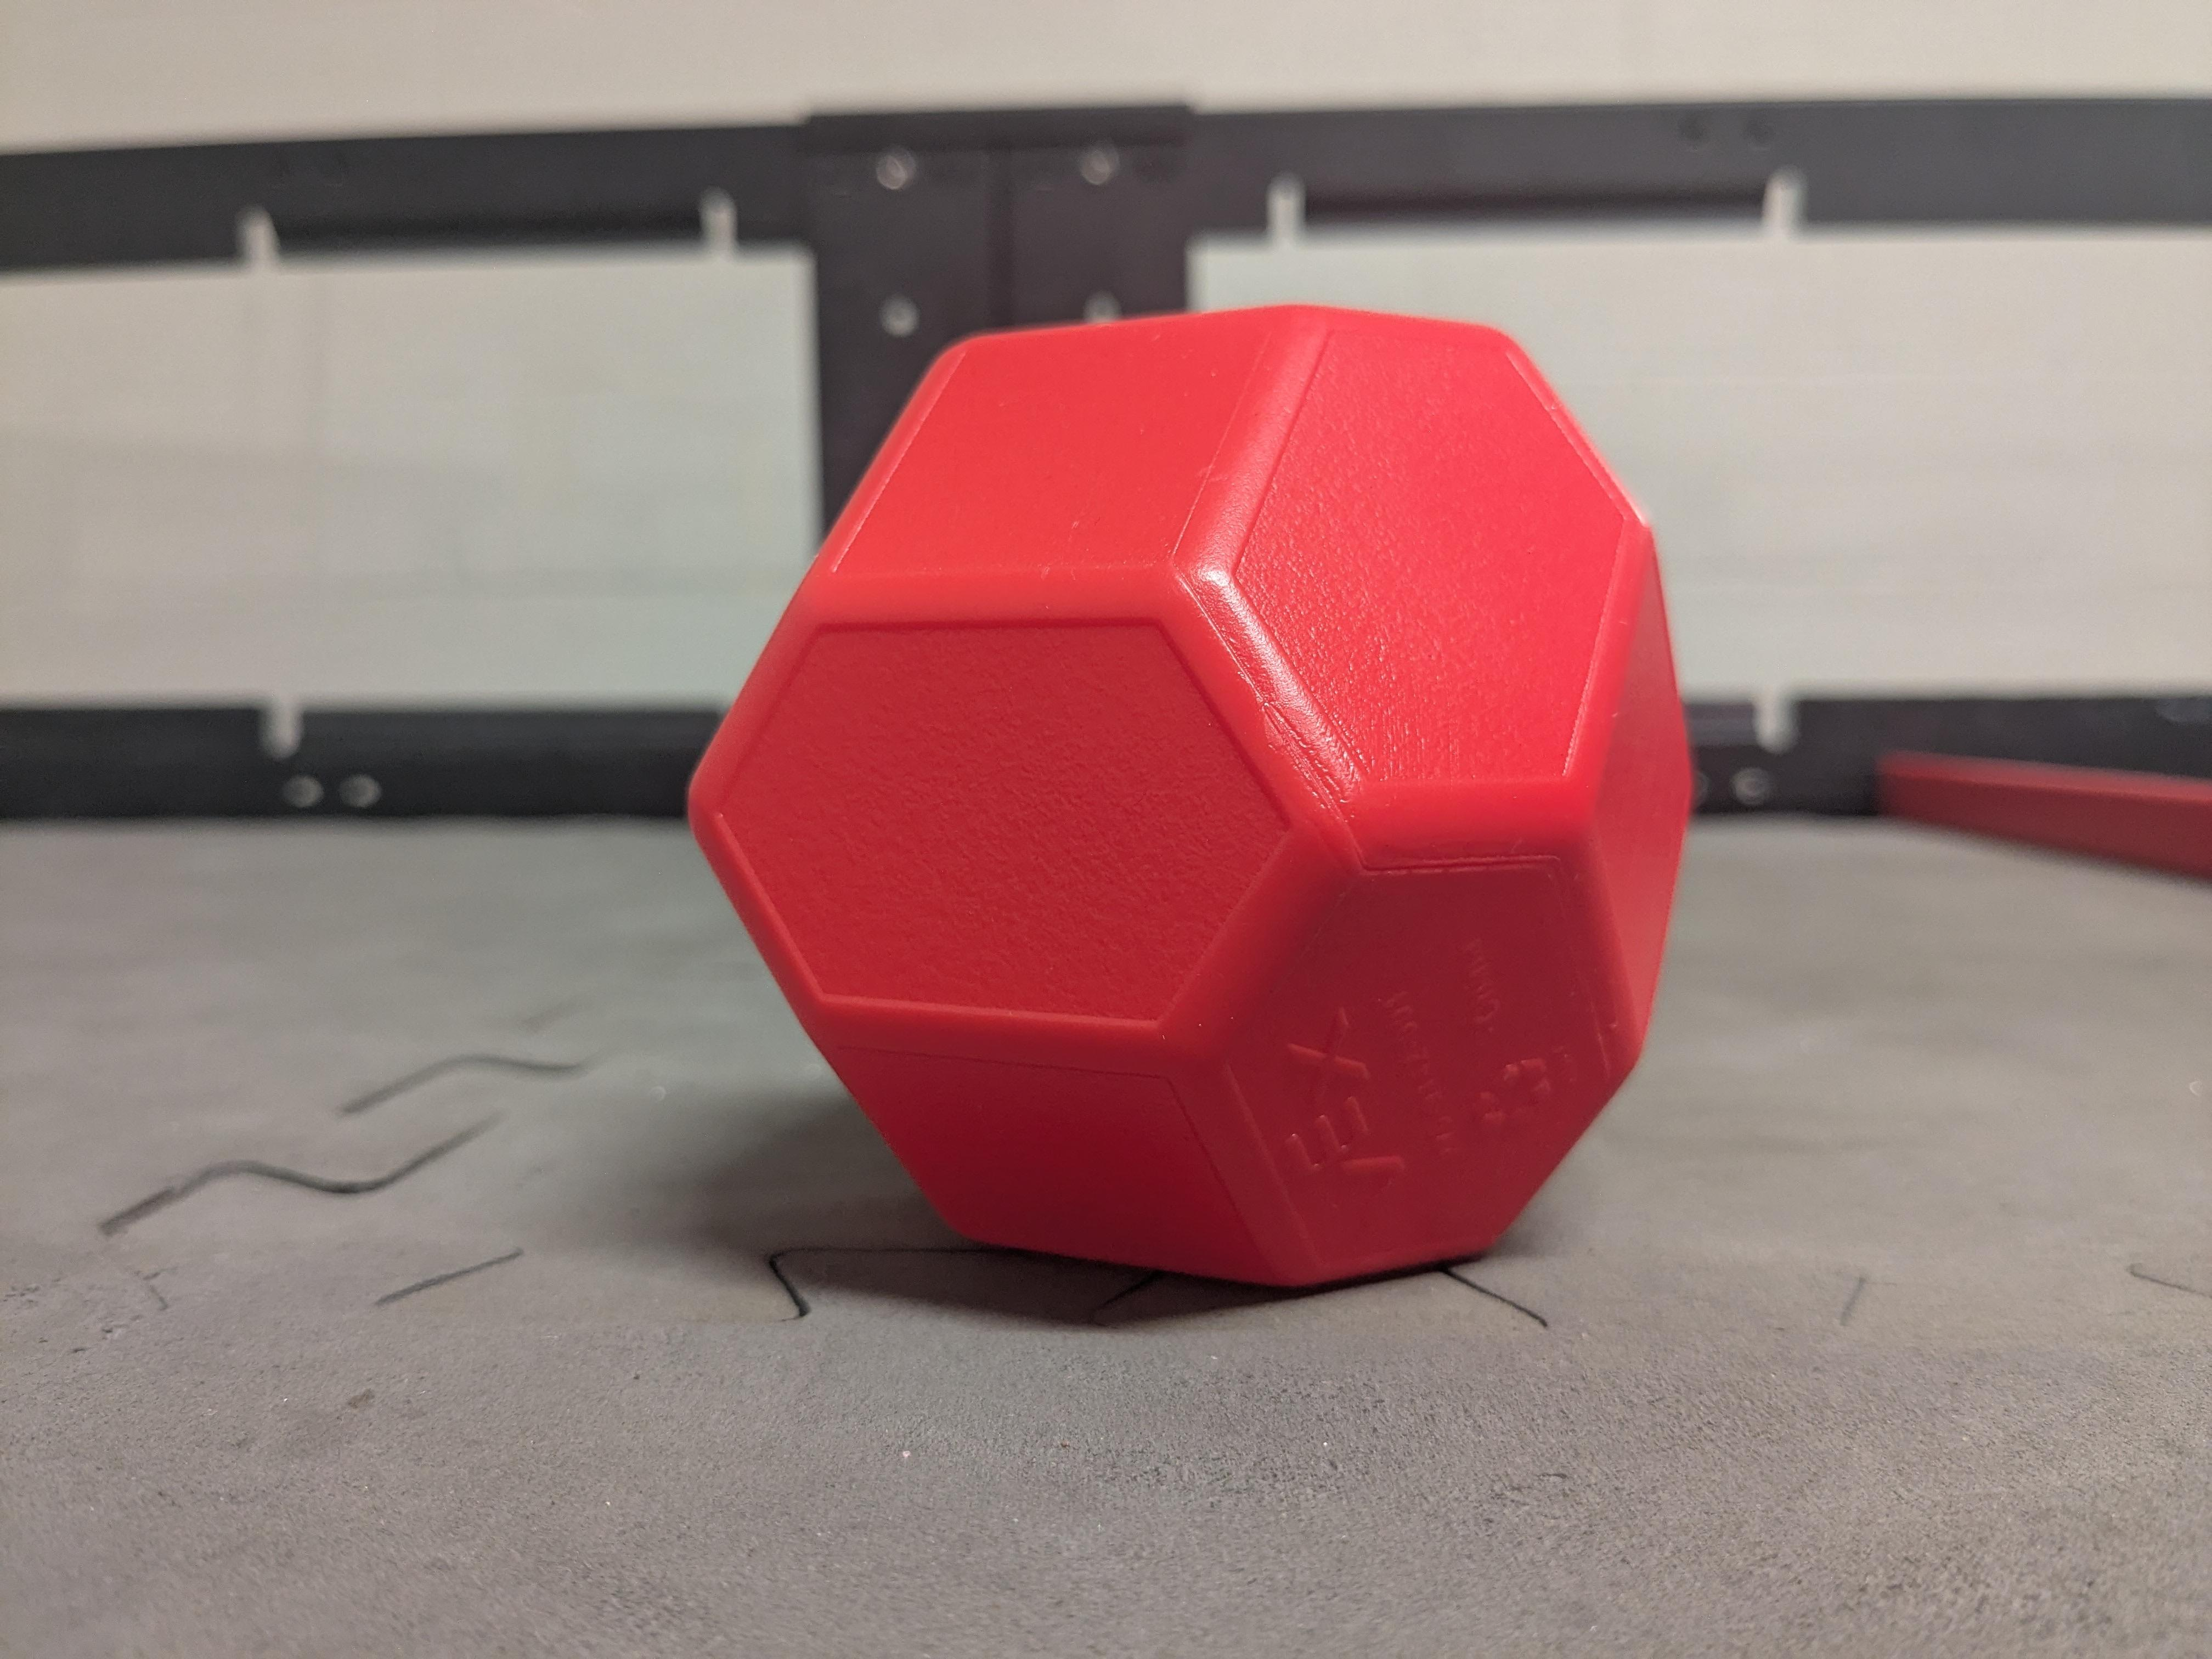Vex-Pieces-RED: (690, 307, 1689, 1284)
